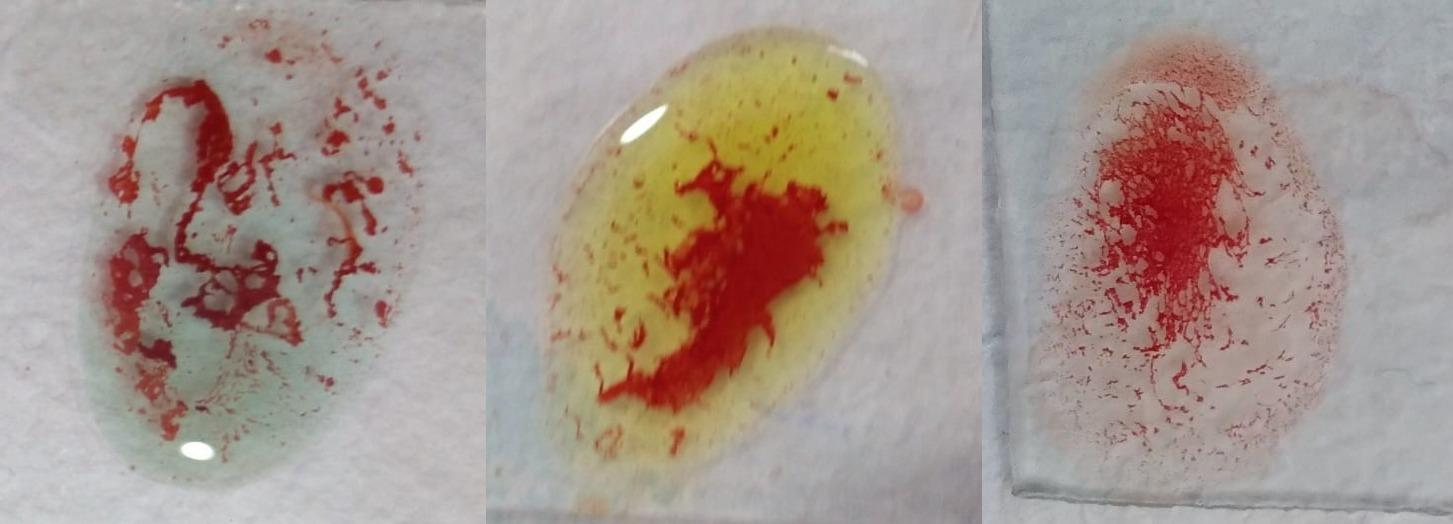A: (79, 22, 404, 482)
B: (547, 23, 892, 464)
D: (1017, 43, 1351, 473)
